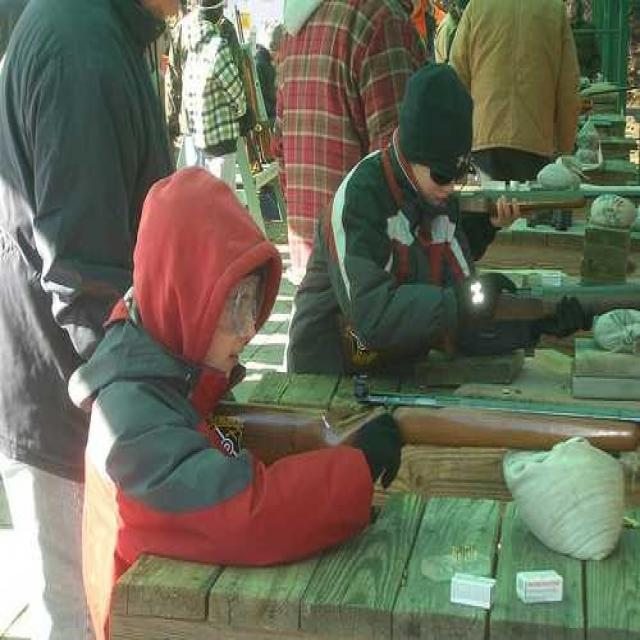weapon: (162, 375, 640, 488), (315, 268, 640, 367)
